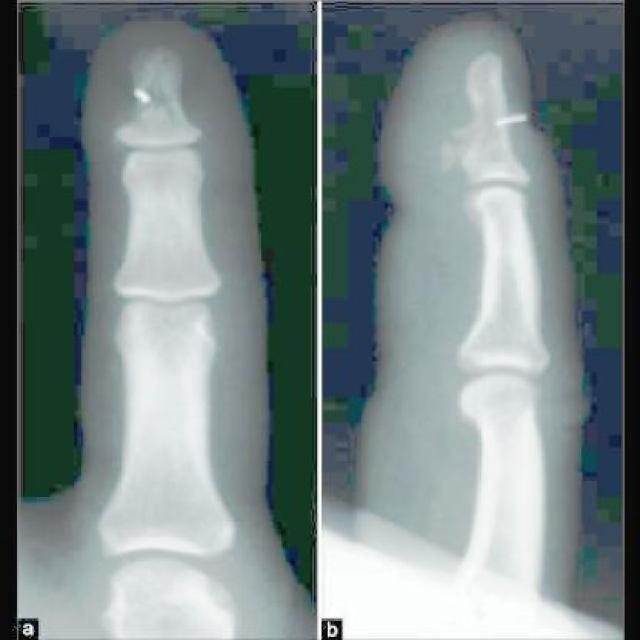Fracture: (425, 65, 524, 187), (102, 60, 210, 145)
